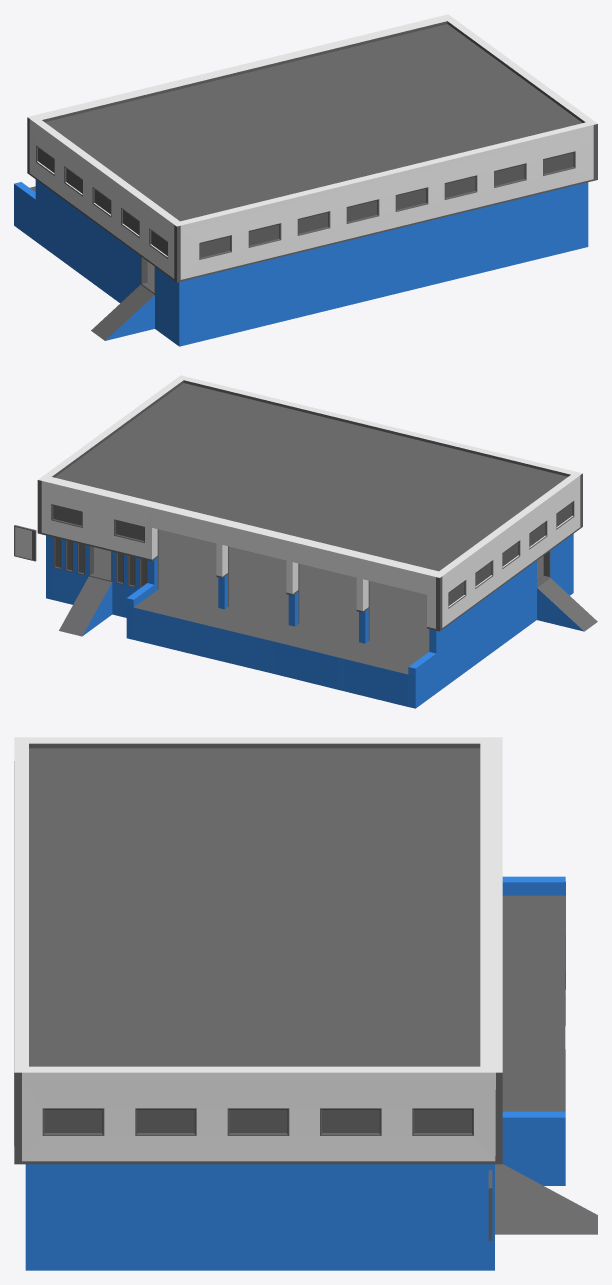
File: Build 1.fbx
3 views of the same model, one above another, from view 1: azimuth 30°, elevation 25°; view 2: azimuth 150°, elevation 25°; view 3: azimuth 270°, elevation 25° (orthographic). The views are drawn at different scales.
Parts seen in each view (by area): view 1: Build, Glass; view 2: Build, Glass, Glass 2; view 3: Build, Glass.
Boxes of the visible parts, left/top/right/bottom form: Build: left=14, top=14, right=597, bottom=346; Glass: left=38, top=148, right=573, bottom=257; Build: left=37, top=375, right=597, bottom=708; Glass: left=53, top=503, right=572, bottom=605; Glass 2: left=15, top=527, right=31, bottom=558; Build: left=14, top=737, right=597, bottom=1270; Glass: left=44, top=1109, right=471, bottom=1132.
Size of the model in its own units: 6029 by 1452 by 3791.
